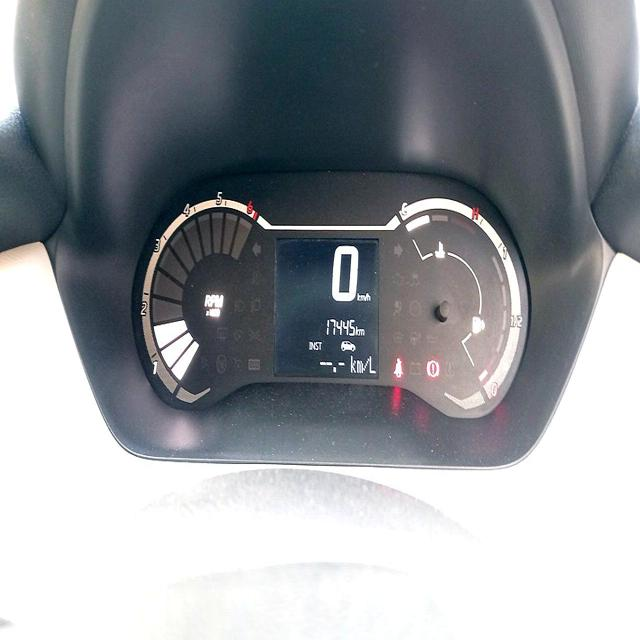odometer: (322, 315, 357, 339)
